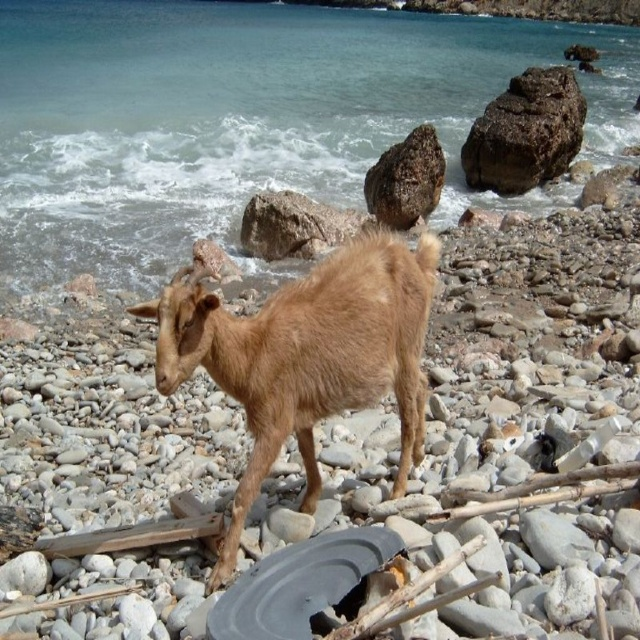Goat: (122, 223, 442, 598)
